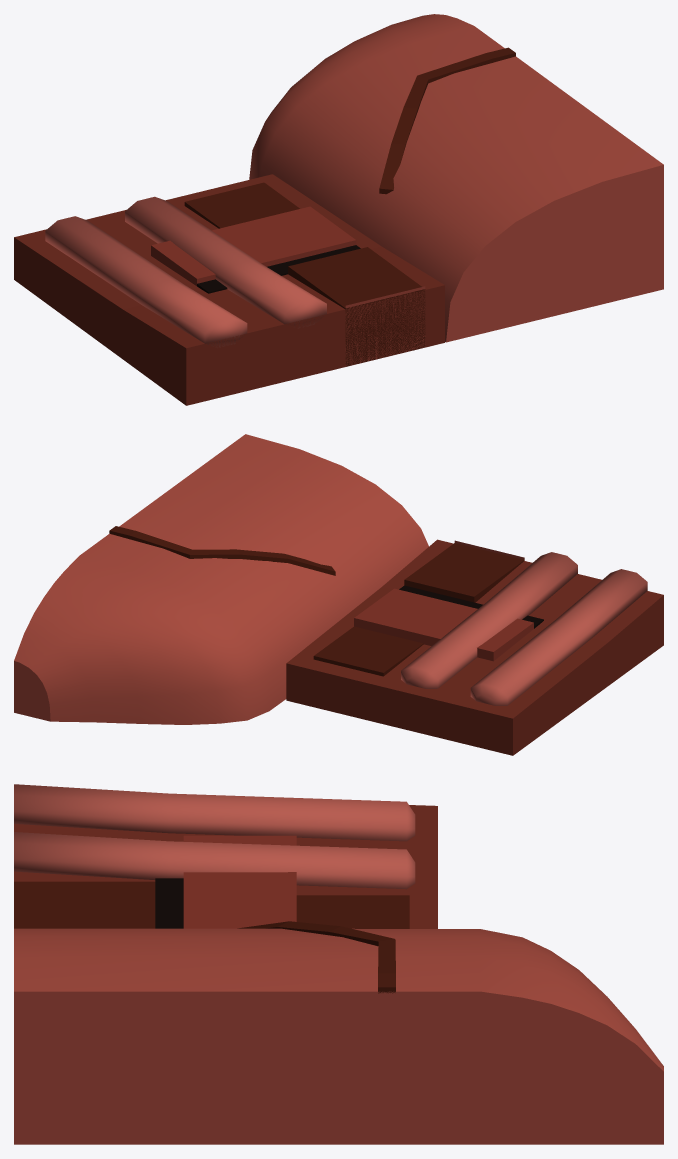
The model's file is newshf-157.glb.
3 renders of one model, top to bottom at view 1: azimuth 30°, elevation 25°; view 2: azimuth 150°, elevation 25°; view 3: azimuth 270°, elevation 25°, orthographic. The views are drawn at different scales.
Parts seen in each view (by area): view 1: newshf-157; view 2: newshf-157; view 3: newshf-157.
Part boxes in pixels (x1,y1,x2,y2): newshf-157: (14, 14, 663, 405); newshf-157: (14, 434, 663, 755); newshf-157: (14, 784, 663, 1144).
Size of the model in its own units: 2 by 0.5126 by 1.92.
